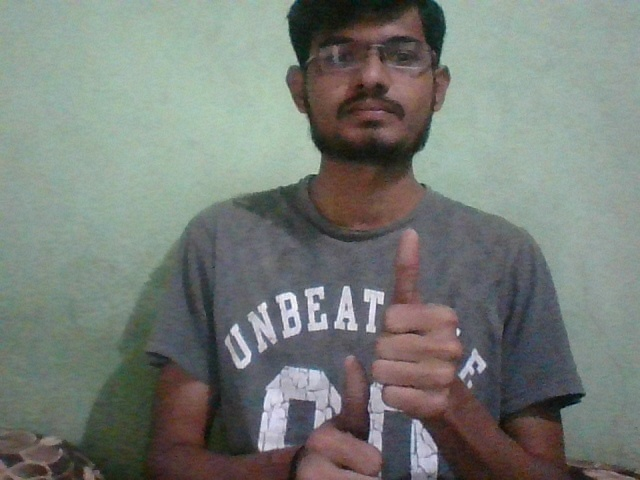which: (302, 227, 468, 479)
